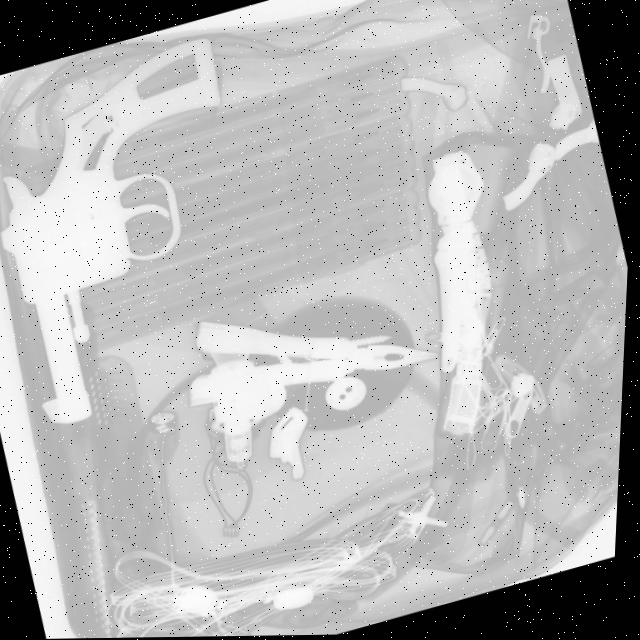pistol: (0, 29, 305, 436)
